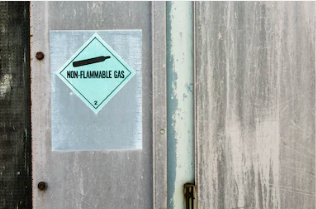NonFlammableGas: (55, 33, 135, 114)
